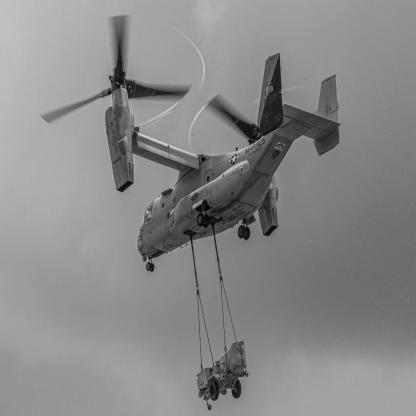V22: (40, 16, 342, 273)
